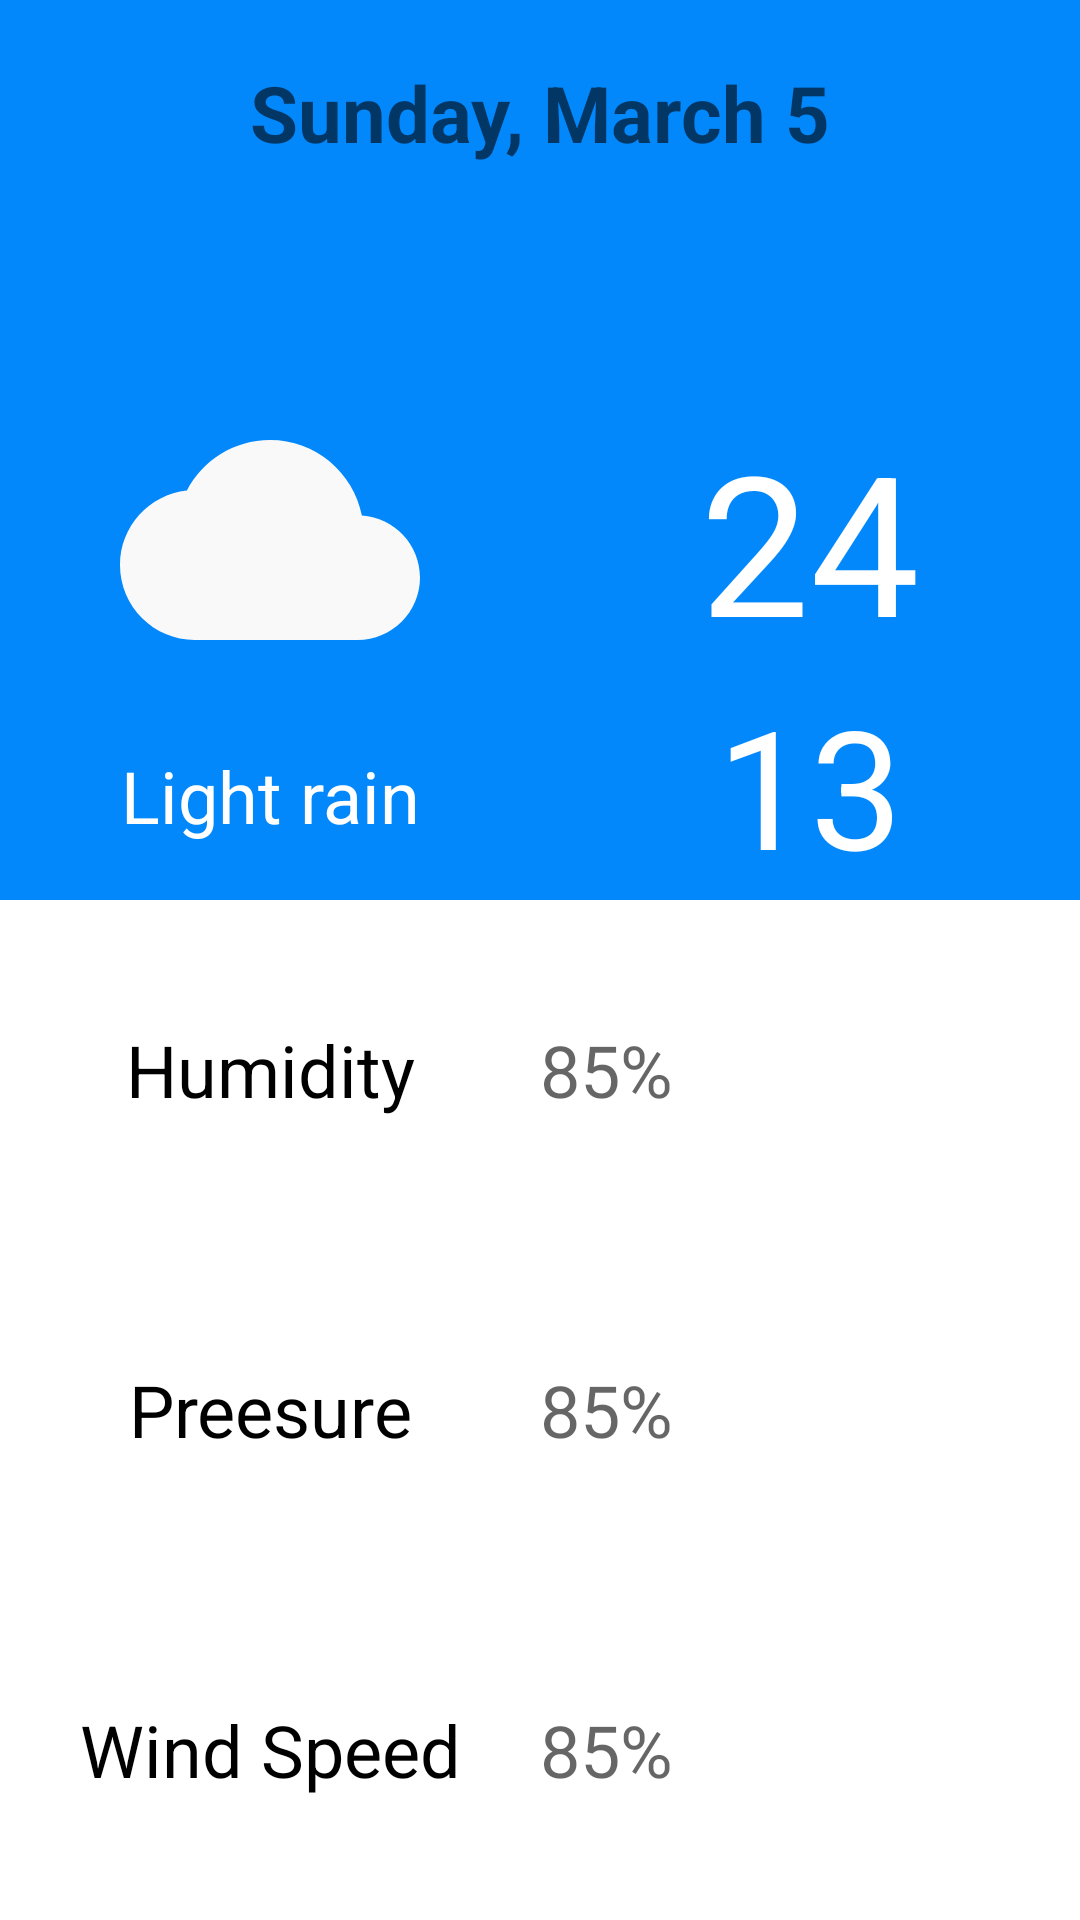

Named icons in this screenshot (1080 × 1920) and their centers, point (x, y):
cloud: point (270, 540)
